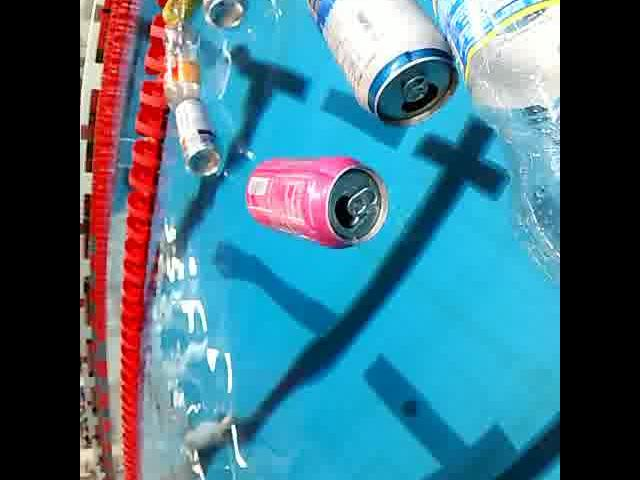Bottle: (426, 0, 560, 296), (154, 19, 204, 119)
Can: (302, 0, 464, 128), (242, 152, 394, 250), (170, 96, 227, 177), (197, 0, 251, 32), (162, 0, 204, 31)
